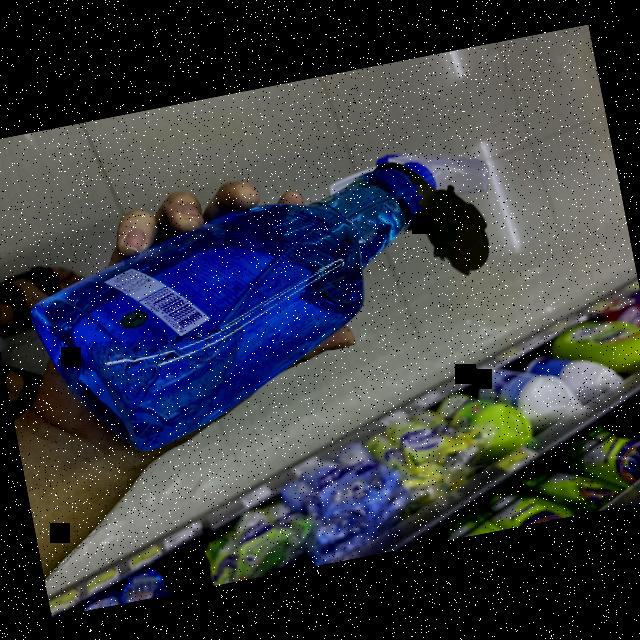chemical_plastic_bottle: (6, 140, 488, 463)
